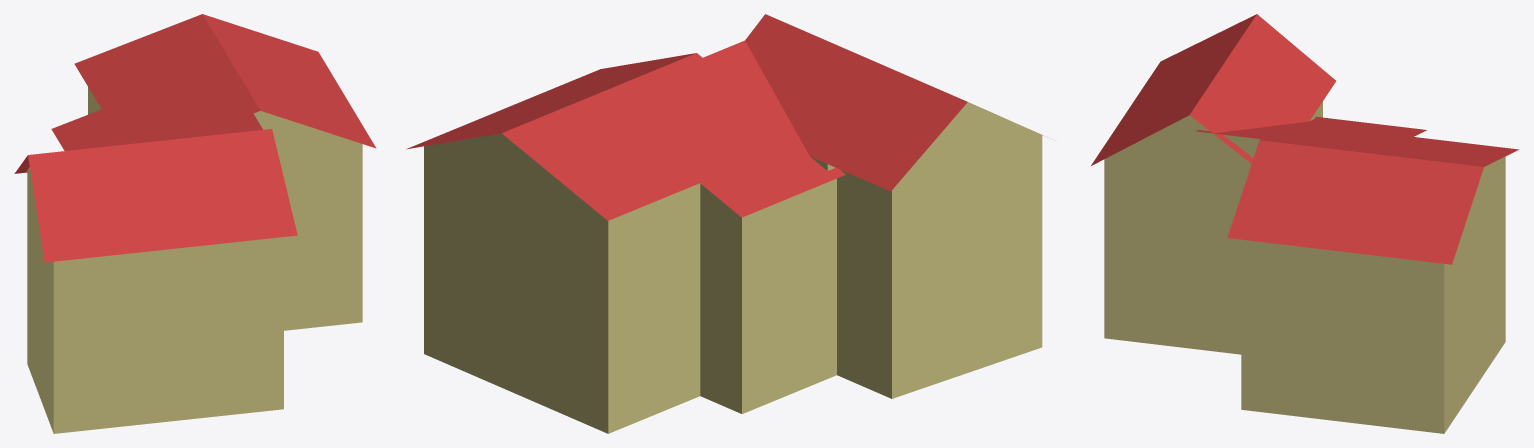
3 views of the same model, side by side, from view 1: azimuth 30°, elevation 25°; view 2: azimuth 150°, elevation 25°; view 3: azimuth 270°, elevation 25° (orthographic). The views are drawn at different scales.
Size of the model in its own units: 21.37 by 19.08 by 11.68.
